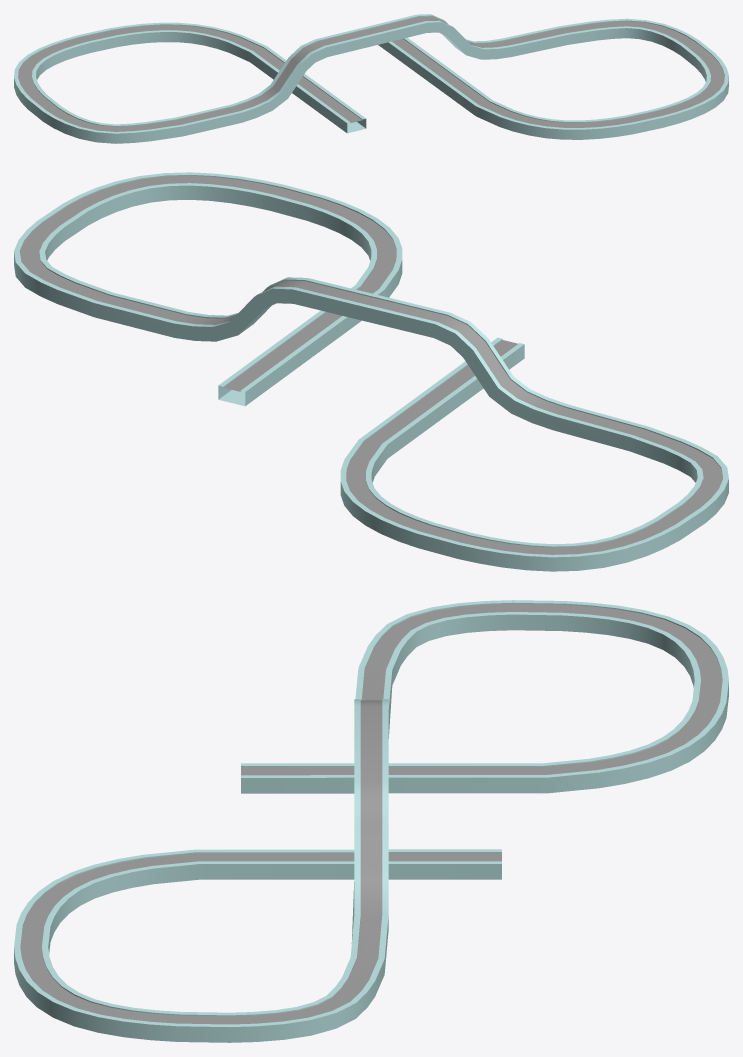
Rendered from mirrorPetlya.fbx.
3 views of the same model, one above another, from view 1: azimuth 30°, elevation 25°; view 2: azimuth 150°, elevation 25°; view 3: azimuth 270°, elevation 25° (orthographic). The views are drawn at different scales.
Visible parts, largest first — view 1: mirrorPetlya; view 2: mirrorPetlya; view 3: mirrorPetlya.
Part boxes in pixels (box(x1,y1,x2,y2)): mirrorPetlya: box(14, 14, 728, 143); mirrorPetlya: box(14, 172, 728, 571); mirrorPetlya: box(14, 600, 728, 1042).
Bounding box in the file's own units: 5994 × 562 × 4241.
